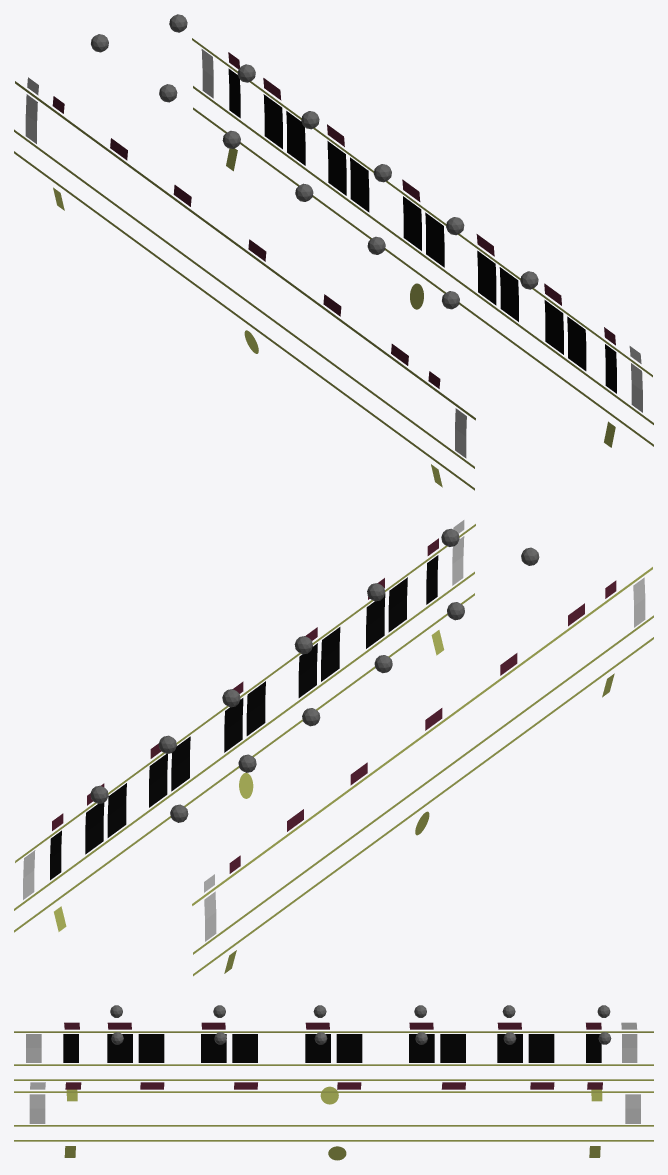
Rendered from lms-period1-cor-open-first-windows.dae.
The picture shows the model from 3 angles, top to bottom: view 1: azimuth 30°, elevation 25°; view 2: azimuth 150°, elevation 25°; view 3: azimuth 270°, elevation 25°; orthographic projection. The views are drawn at different scales.
Parts seen in each view (by area): view 1: Plane_907, Plane_912, Plane_909, Plane_910, Plane_911, Plane_908, Plane_061, Plane_871, Plane_056, Plane_062, Plane_866, Plane_869 (+4 smaller); view 2: Plane_907, Plane_912, Plane_909, Plane_910, Plane_911, Plane_908, Plane_048, Plane_062, Plane_868, Plane_869, Plane_056, Plane_061 (+4 smaller); view 3: Plane_907, Plane_908, Plane_909, Plane_910, Plane_911, Plane_912, Plane_880, Plane_886, Plane_892, Plane_881, Plane_887, Plane_878 (+11 smaller).
Part boxes in pixels (left/top/right/bottom): Plane_907: left=15, top=81, right=475, bottom=420; Plane_912: left=193, top=86, right=653, bottom=424; Plane_909: left=14, top=129, right=474, bottom=468; Plane_910: left=14, top=151, right=474, bottom=490; Plane_911: left=193, top=107, right=653, bottom=446; Plane_908: left=192, top=38, right=652, bottom=377; Plane_061: left=350, top=157, right=369, bottom=212; Plane_871: left=544, top=300, right=563, bottom=354; Plane_056: left=327, top=141, right=346, bottom=195; Plane_062: left=425, top=212, right=444, bottom=267; Plane_866: left=477, top=250, right=496, bottom=305; Plane_869: left=567, top=316, right=586, bottom=370; Plane_907: left=192, top=567, right=652, bottom=905; Plane_912: left=14, top=571, right=474, bottom=910; Plane_909: left=193, top=615, right=653, bottom=954; Plane_910: left=193, top=637, right=653, bottom=976; Plane_911: left=14, top=593, right=474, bottom=932; Plane_908: left=15, top=524, right=475, bottom=862; Plane_048: left=107, top=783, right=126, bottom=837; Plane_062: left=246, top=681, right=265, bottom=735; Plane_868: left=321, top=627, right=340, bottom=681; Plane_869: left=388, top=577, right=407, bottom=632; Plane_056: left=149, top=754, right=167, bottom=807; Plane_061: left=171, top=736, right=190, bottom=791; Plane_907: left=14, top=1031, right=653, bottom=1032; Plane_908: left=14, top=1091, right=653, bottom=1092; Plane_909: left=14, top=1064, right=653, bottom=1065; Plane_910: left=14, top=1079, right=653, bottom=1080; Plane_911: left=14, top=1140, right=653, bottom=1141; Plane_912: left=14, top=1125, right=653, bottom=1126; Plane_880: left=528, top=1034, right=554, bottom=1062; Plane_886: left=336, top=1034, right=362, bottom=1062; Plane_892: left=138, top=1034, right=164, bottom=1062; Plane_881: left=440, top=1034, right=465, bottom=1062; Plane_887: left=232, top=1034, right=257, bottom=1062; Plane_878: left=497, top=1034, right=522, bottom=1062.
Bounding box in the file's own units: 2.21 × 9.85 × 1.92.
